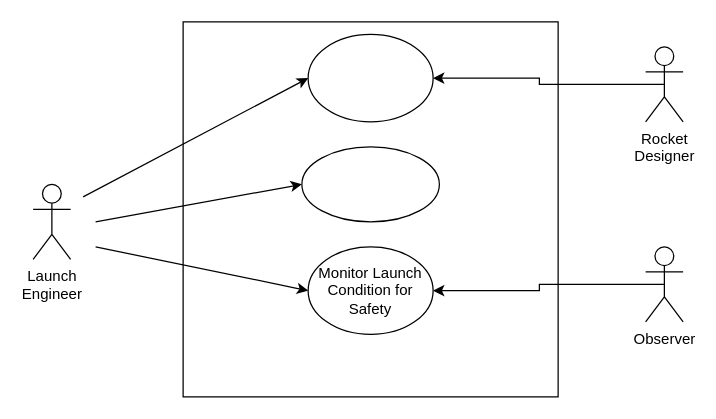
This 716x419 diagram has some shape labels left out. Each missing label, with the box of its shape:
Launch Rocket: (301, 146, 439, 222)
Prep Rocket: (307, 33, 433, 122)
